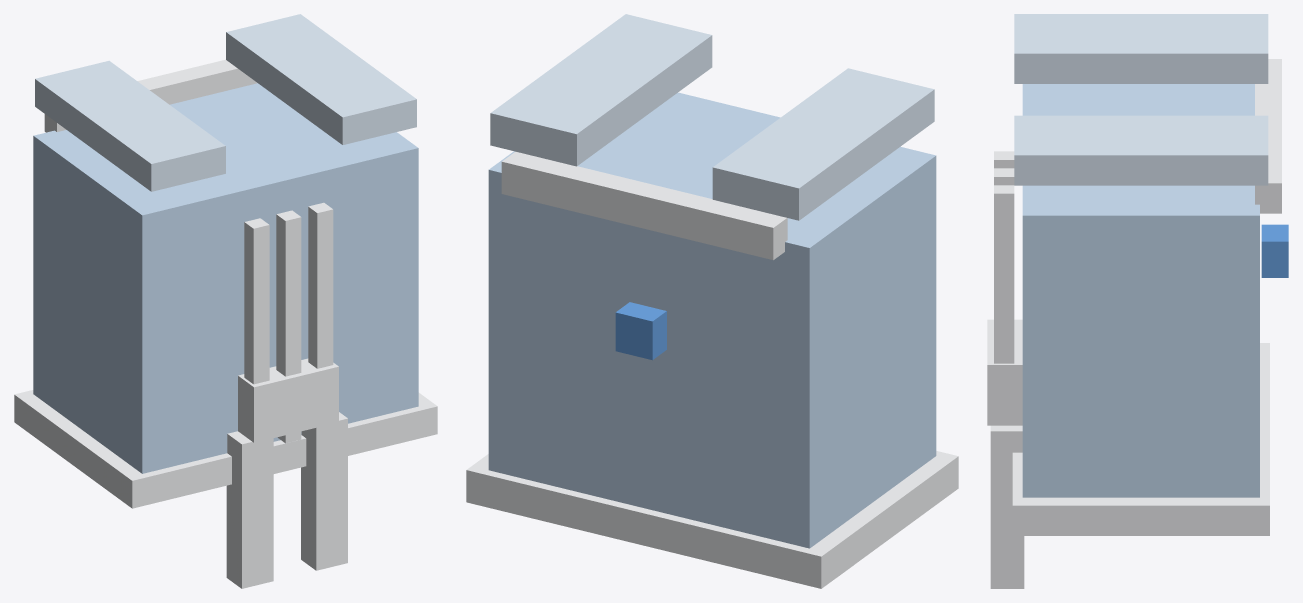
The model's file is baile_azul_tronco.glb.
The picture shows the model from 3 angles, left to right: view 1: azimuth 30°, elevation 25°; view 2: azimuth 150°, elevation 25°; view 3: azimuth 270°, elevation 25°; orthographic projection. The views are drawn at different scales.
Visible parts, largest first — view 1: baile_azul_tronco; view 2: baile_azul_tronco; view 3: baile_azul_tronco.
Boxes of the visible parts, bbox=[...] form: baile_azul_tronco: bbox=[14, 14, 437, 588]; baile_azul_tronco: bbox=[466, 14, 958, 588]; baile_azul_tronco: bbox=[987, 14, 1288, 588].
Bounding box in the file's own units: 0.575 × 0.785 × 0.45.
